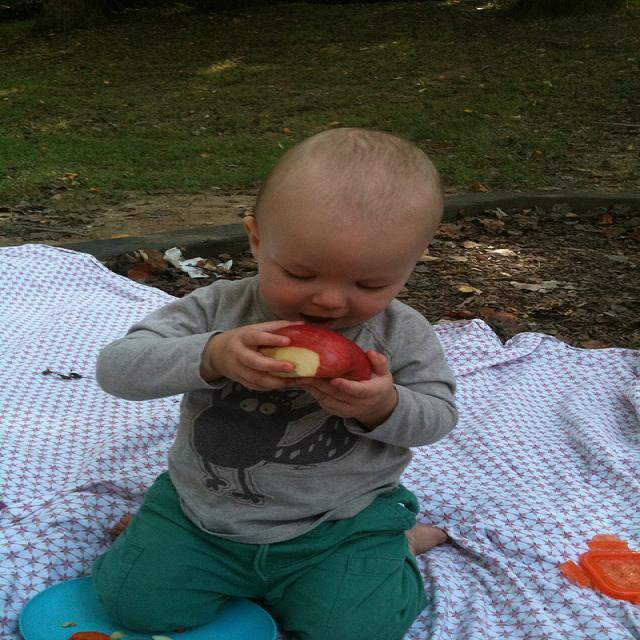apple: (251, 321, 371, 385)
